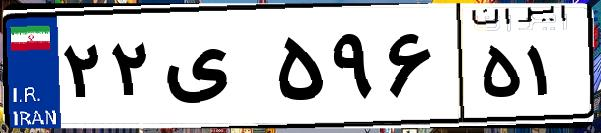1: (525, 38, 570, 115)
2: (57, 26, 110, 100), (110, 28, 158, 98)
5: (270, 28, 330, 110), (475, 38, 525, 113)
6: (385, 28, 445, 110)
9: (330, 28, 385, 110)
ی: (158, 20, 270, 120)
